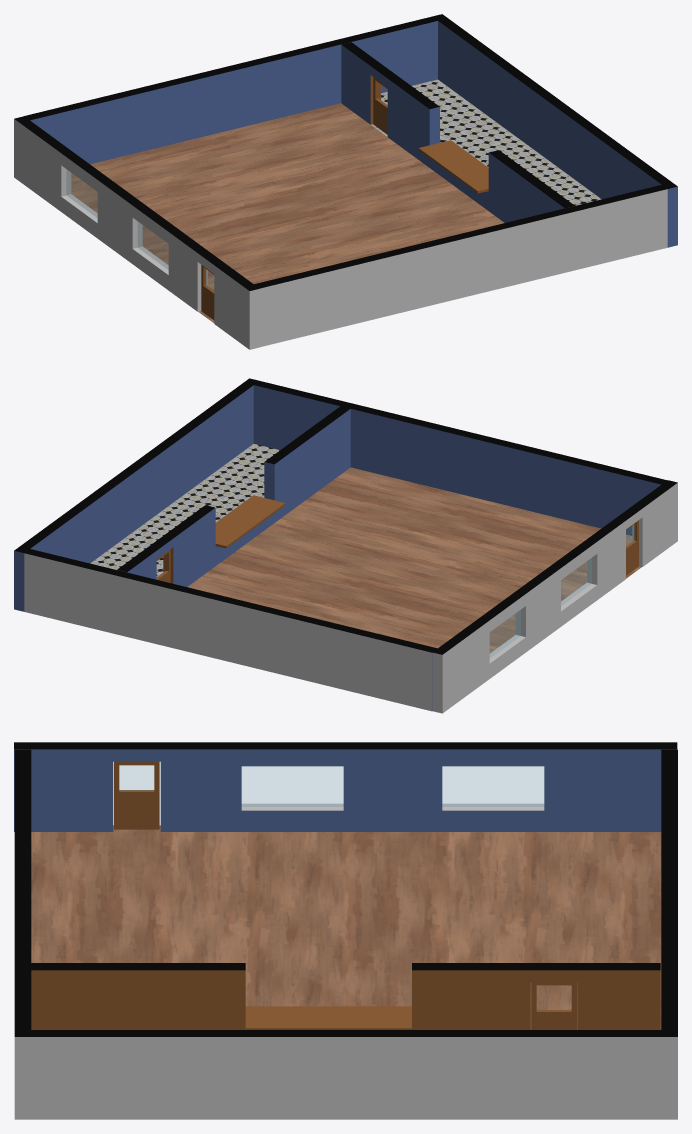
File: building.gltf
3 renders of one model, top to bottom at view 1: azimuth 30°, elevation 25°; view 2: azimuth 150°, elevation 25°; view 3: azimuth 270°, elevation 25°, orthographic. The views are drawn at different scales.
Parts seen in each view (by area): view 1: woodfloorbake, wall.002, wall.001, wall/door, wall.003, wall/door.001, tile.bake, glass, glass.001, door.001, door; view 2: woodfloorbake, wall.001, wall.002, wall/door, wall.003, wall/door.001, tile.bake, glass.001, glass; view 3: woodfloorbake, wall.003, wall/door, wall/door.001, wall.002, wall.001, glass.001, glass, door, door.001, window.
Part boxes in pixels (x1=…): woodfloorbake: x1=71, y1=103, x2=504, y2=322; wall.002: x1=254, y1=185, x2=667, y2=346; wall.001: x1=24, y1=16, x2=437, y2=164; wall/door: x1=14, y1=116, x2=259, y2=349; wall.003: x1=432, y1=14, x2=677, y2=247; wall/door.001: x1=341, y1=42, x2=574, y2=222; tile.bake: x1=371, y1=79, x2=601, y2=205; glass: x1=66, y1=170, x2=97, y2=217; glass.001: x1=138, y1=222, x2=168, y2=269; door.001: x1=373, y1=77, x2=387, y2=134; door: x1=201, y1=265, x2=214, y2=320; woodfloorbake: x1=187, y1=467, x2=641, y2=653; wall.001: x1=24, y1=549, x2=437, y2=711; wall.002: x1=253, y1=381, x2=666, y2=535; wall/door: x1=432, y1=480, x2=677, y2=713; wall.003: x1=14, y1=378, x2=259, y2=611; wall/door.001: x1=117, y1=406, x2=350, y2=586; tile.bake: x1=90, y1=444, x2=279, y2=576; glass.001: x1=561, y1=558, x2=591, y2=605; glass: x1=490, y1=610, x2=520, y2=657; woodfloorbake: x1=31, y1=825, x2=661, y2=1029; wall.003: x1=14, y1=1030, x2=677, y2=1119; wall/door: x1=14, y1=742, x2=677, y2=831; wall/door.001: x1=30, y1=963, x2=660, y2=1029; wall.002: x1=14, y1=749, x2=31, y2=1029; wall.001: x1=661, y1=749, x2=677, y2=1029; glass.001: x1=242, y1=766, x2=343, y2=806; glass: x1=442, y1=766, x2=543, y2=806; door: x1=114, y1=761, x2=159, y2=829; door.001: x1=531, y1=982, x2=577, y2=1029; window: x1=119, y1=765, x2=153, y2=790.
Size of the model in its own units: 84 by 11.03 by 80.08.
